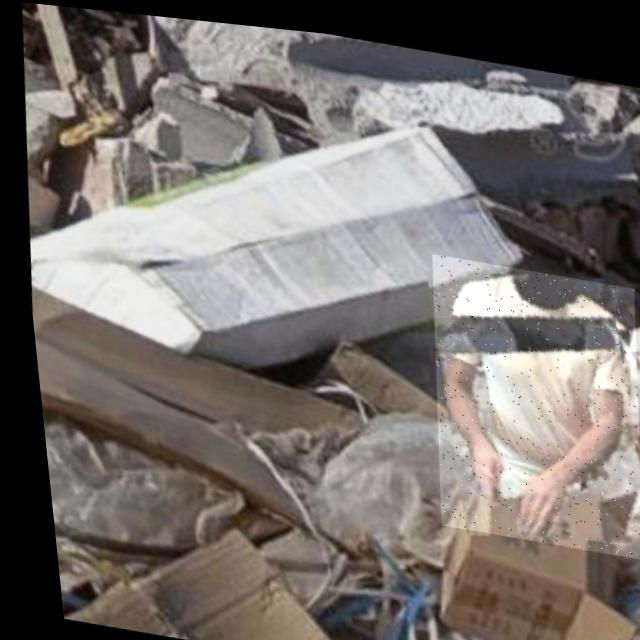Person in Rubble: (408, 243, 640, 548)
